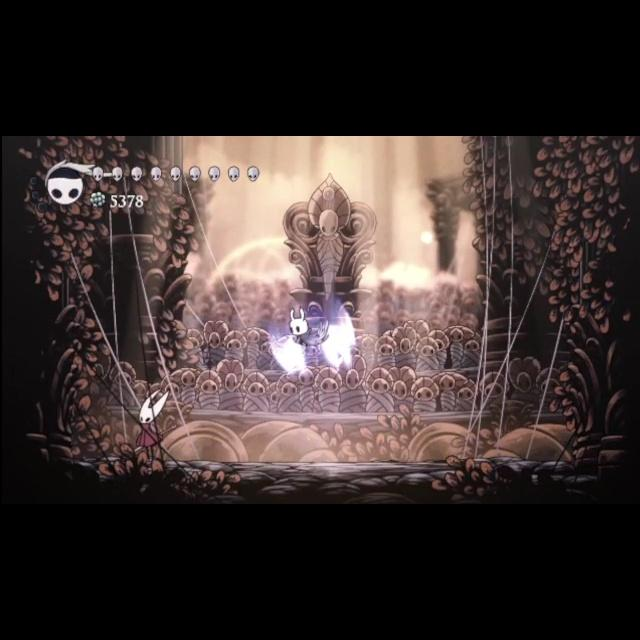Enemy: (123, 387, 181, 465)
Player: (278, 301, 329, 364)
